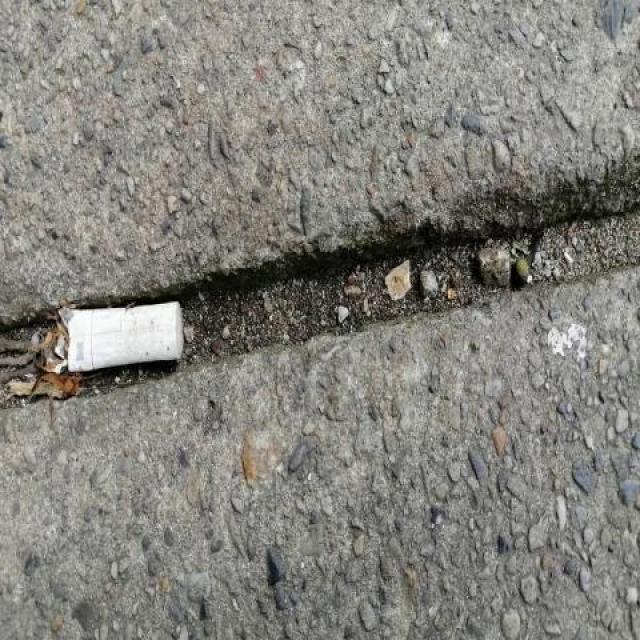non-organic waste: (55, 297, 189, 374)
